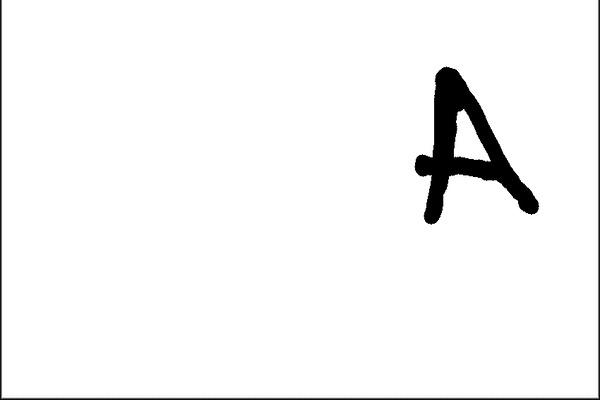A: (397, 55, 549, 224)
